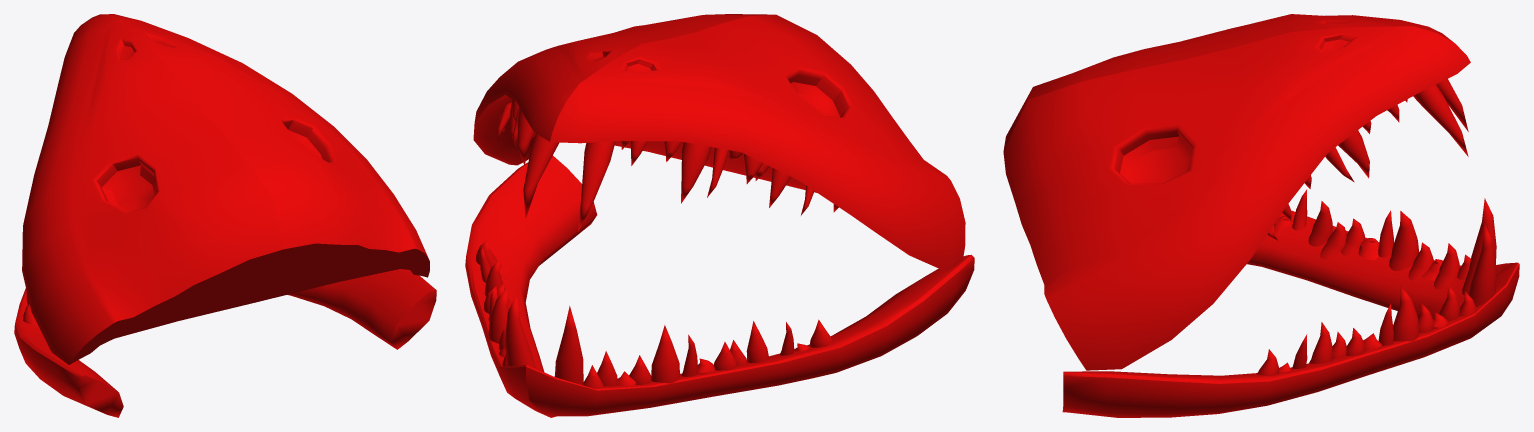
File: SKULL.fbx
3 renders of one model, left to right at view 1: azimuth 30°, elevation 25°; view 2: azimuth 150°, elevation 25°; view 3: azimuth 270°, elevation 25°, orthographic. The views are drawn at different scales.
Visible parts, largest first — view 1: polySurface120; view 2: polySurface120; view 3: polySurface120.
Boxes of the visible parts, x1,y1,x2,y2 form: polySurface120: (14,14,436,417); polySurface120: (465,14,974,417); polySurface120: (1003,14,1519,417).
Bounding box in the file's own units: 103 × 70.91 × 107.
